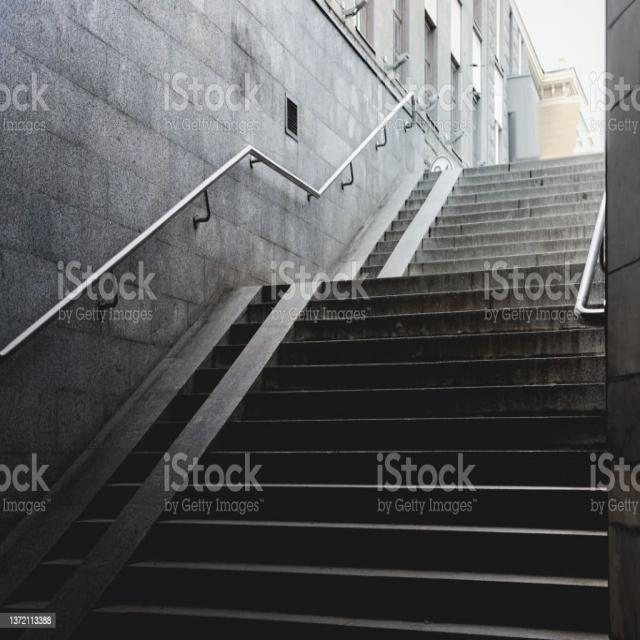AVOID: (96, 267, 614, 634), (402, 152, 604, 268)
CLIMB: (2, 285, 320, 640), (258, 168, 464, 279)
